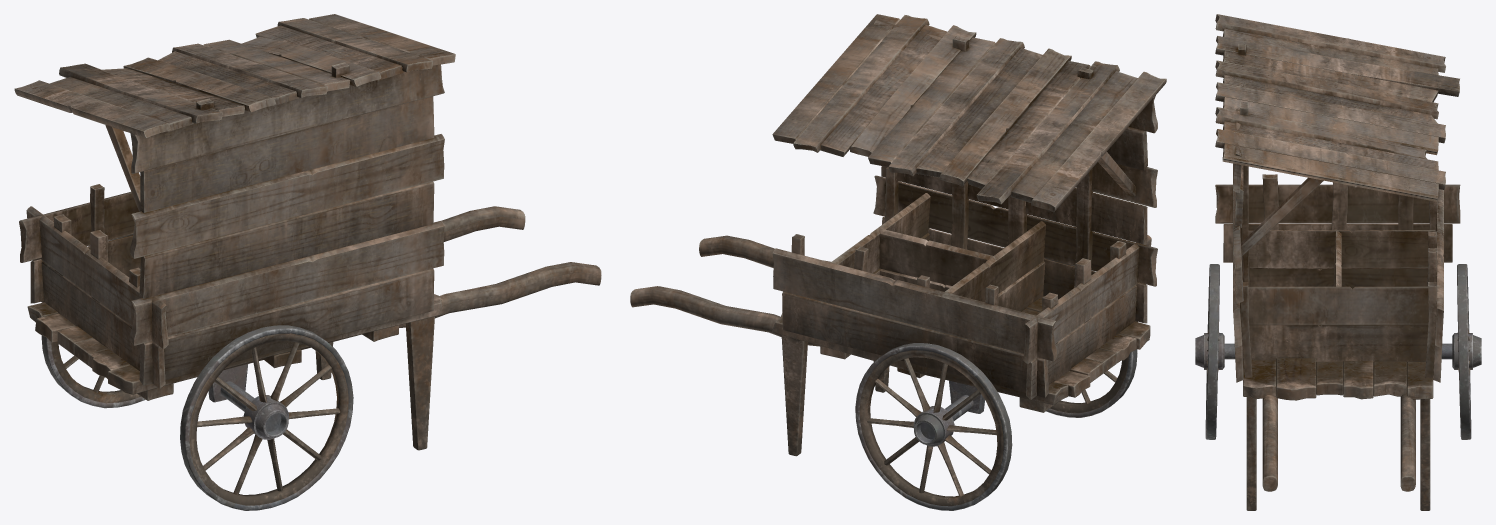
The model's file is SM_Market_Cart_01.fbx.
3 renders of one model, left to right at view 1: azimuth 30°, elevation 25°; view 2: azimuth 150°, elevation 25°; view 3: azimuth 270°, elevation 25°, orthographic. The views are drawn at different scales.
Parts seen in each view (by area): view 1: SM_Market_Cart_01_LOD0; view 2: SM_Market_Cart_01_LOD0; view 3: SM_Market_Cart_01_LOD0.
Part boxes in pixels (<box>): SM_Market_Cart_01_LOD0: <box>14,14,601,510</box>; SM_Market_Cart_01_LOD0: <box>630,14,1166,510</box>; SM_Market_Cart_01_LOD0: <box>1195,14,1481,510</box>.
Bounding box in the file's own units: 254 × 142 × 202.
